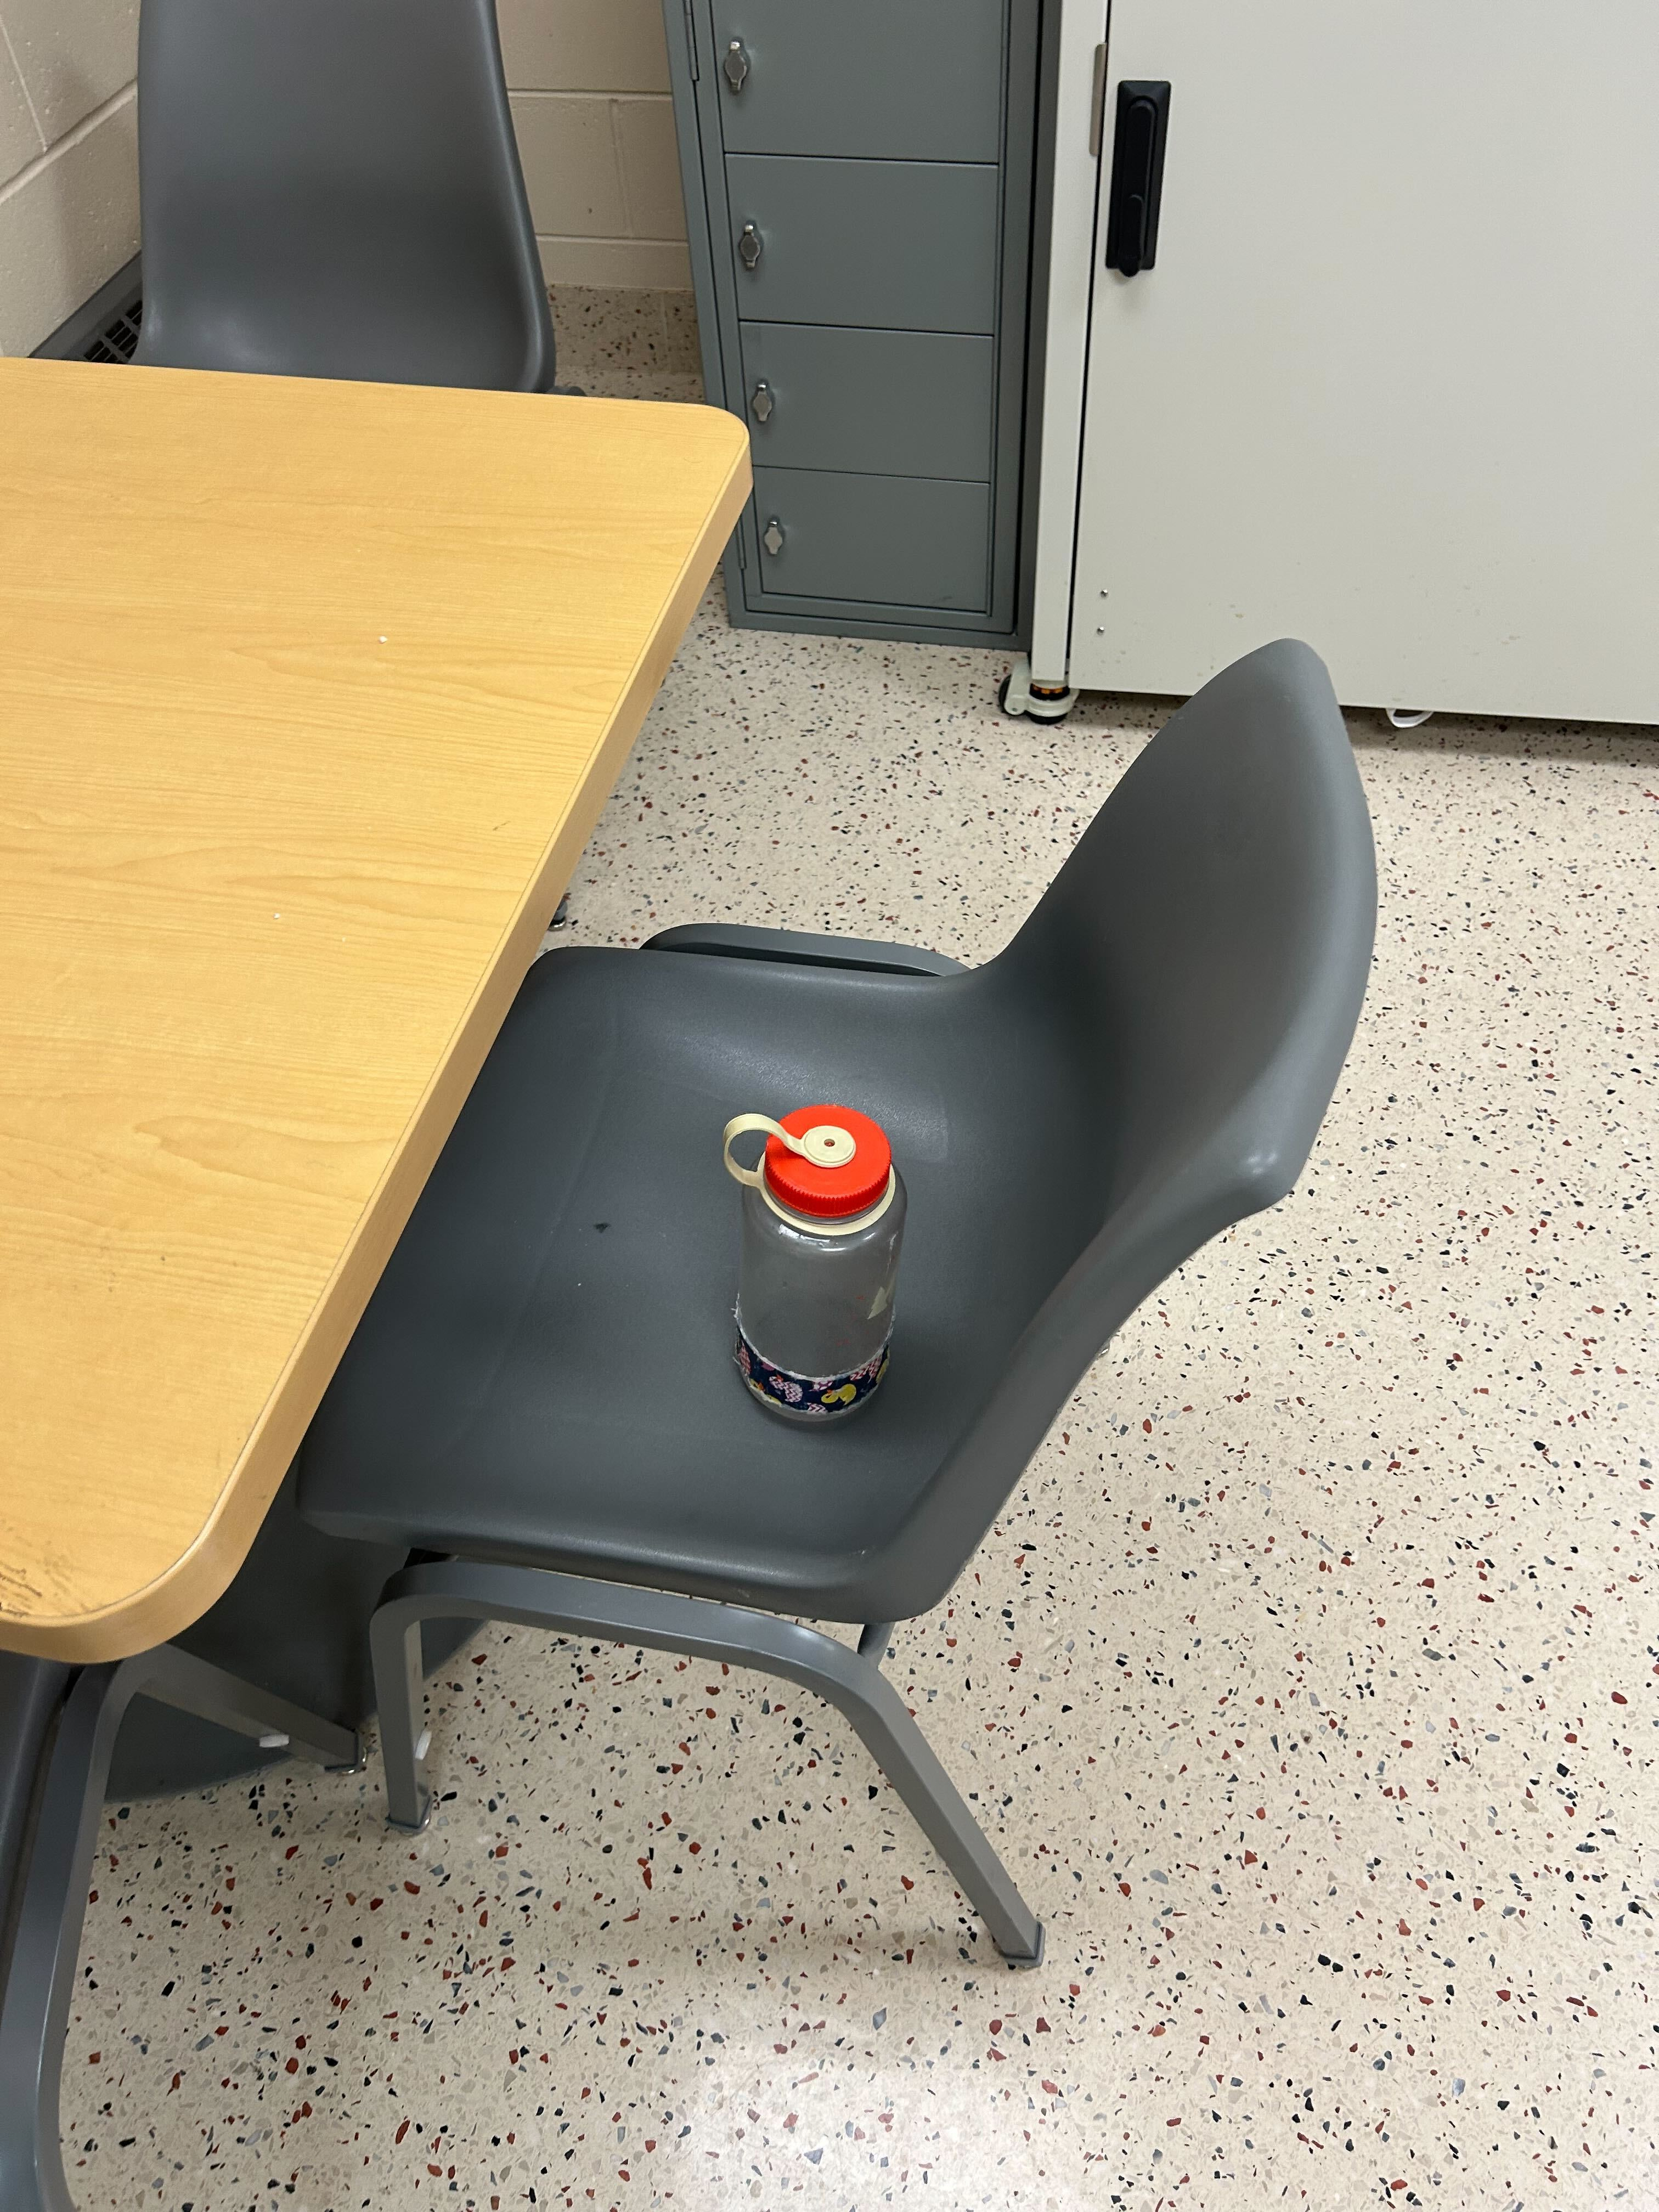bottle: (718, 1094, 910, 1440)
